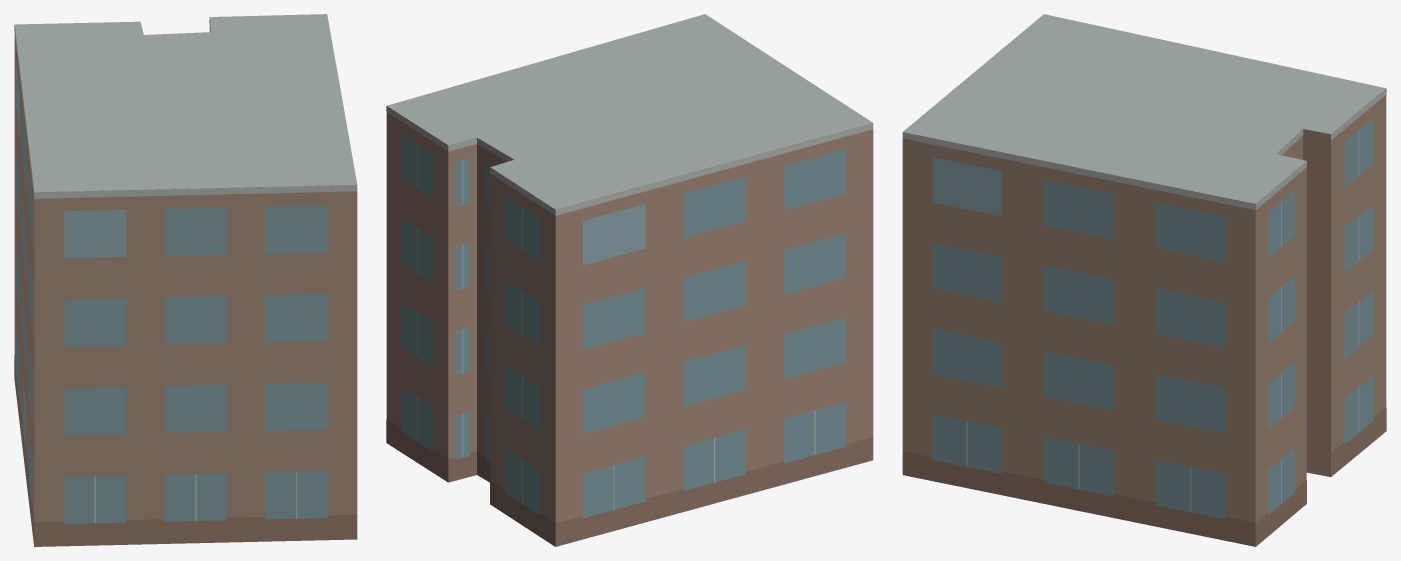
File: survey-upis-32731113.glb
The picture shows the model from 3 angles, left to right: view 1: azimuth 30°, elevation 25°; view 2: azimuth 150°, elevation 25°; view 3: azimuth 270°, elevation 25°; orthographic projection. The views are drawn at different scales.
Parts seen in each view (by area): view 1: survey-upis-32731113.tmp; view 2: survey-upis-32731113.tmp; view 3: survey-upis-32731113.tmp.
Part boxes in pixels (left/top/right/bottom): survey-upis-32731113.tmp: left=14, top=14, right=357, bottom=546; survey-upis-32731113.tmp: left=386, top=14, right=873, bottom=546; survey-upis-32731113.tmp: left=902, top=14, right=1386, bottom=546.
Size of the model in its own units: 15.7 by 13.21 by 16.9.
